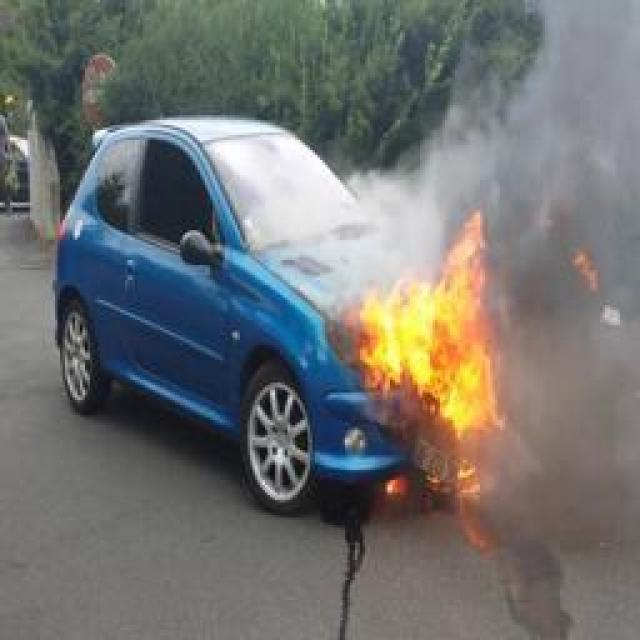Fire: (358, 208, 506, 438)
